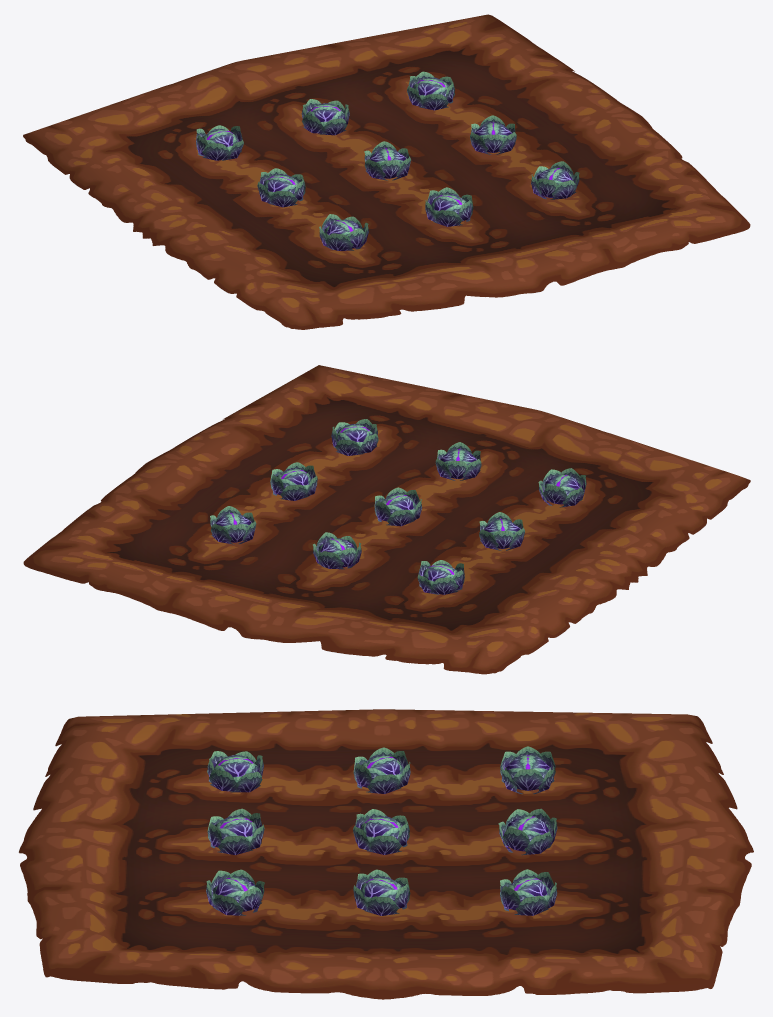
The model's file is Cabbage_Field_Violet_Lv1.FBX.
The picture shows the model from 3 angles, top to bottom: view 1: azimuth 30°, elevation 25°; view 2: azimuth 150°, elevation 25°; view 3: azimuth 270°, elevation 25°; orthographic projection. The views are drawn at different scales.
Visible parts, largest first — view 1: Cabbage_Field_Violet_Lv1; view 2: Cabbage_Field_Violet_Lv1; view 3: Cabbage_Field_Violet_Lv1.
Boxes of the visible parts, x1,y1,x2,y2 form: Cabbage_Field_Violet_Lv1: (23, 14, 750, 329); Cabbage_Field_Violet_Lv1: (23, 365, 750, 674); Cabbage_Field_Violet_Lv1: (18, 709, 753, 999).
Size of the model in its own units: 274 by 16.71 by 296.
